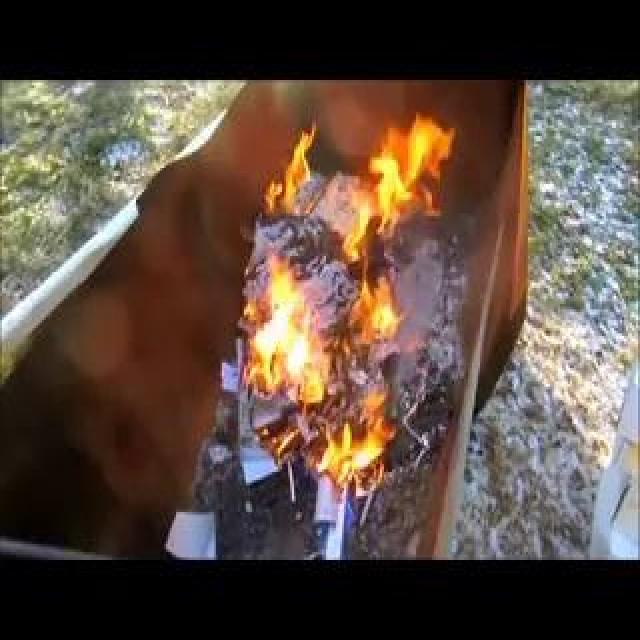Fire: (230, 306, 352, 406)
